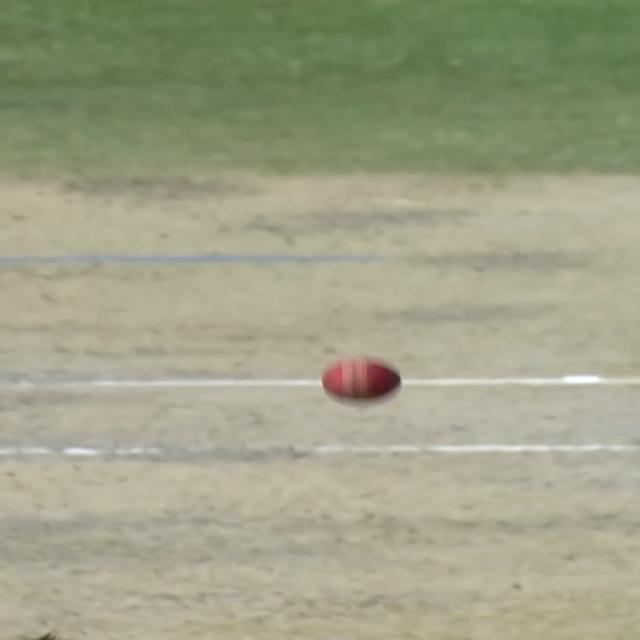Cricket ball: (318, 356, 401, 402)
